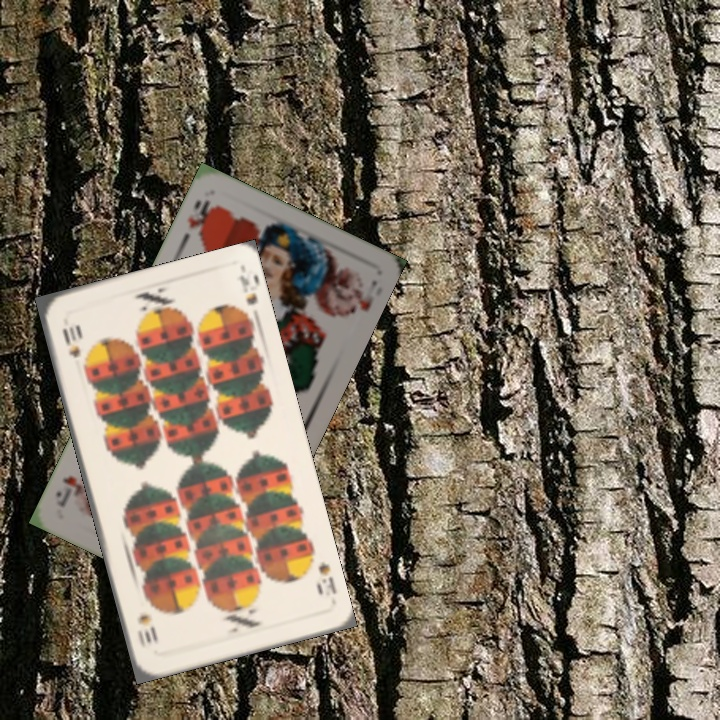HO: (176, 195, 219, 247)
S10: (314, 557, 340, 597), (58, 322, 83, 360)
